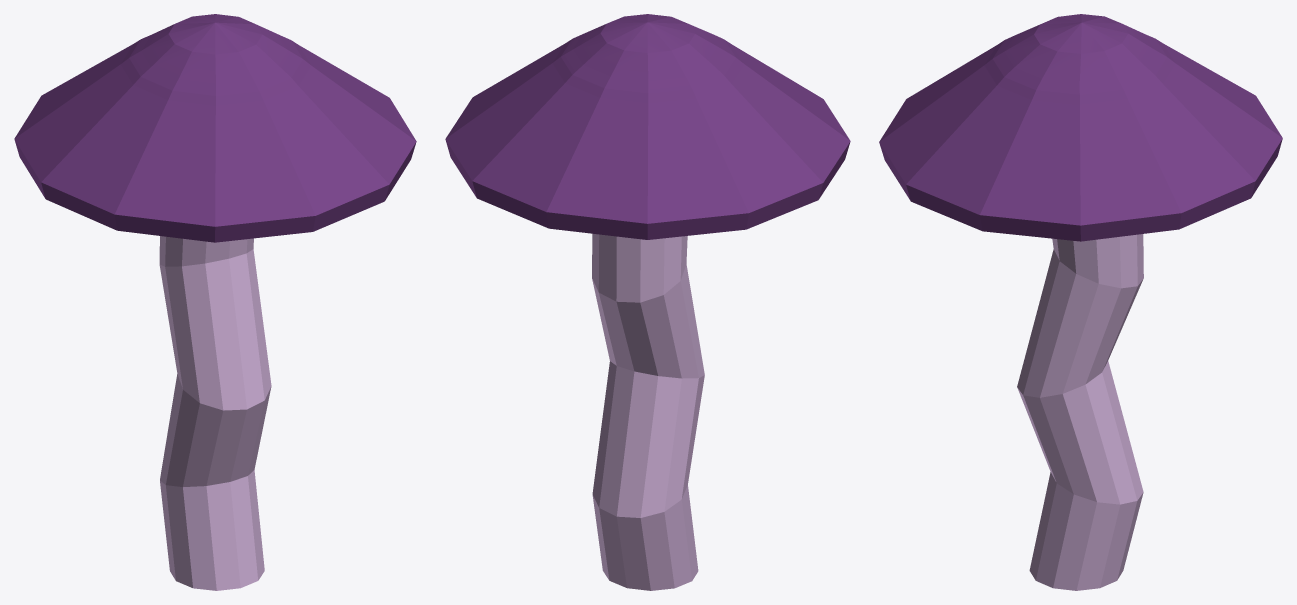
File: LargeMushroom.fbx
The picture shows the model from 3 angles, left to right: view 1: azimuth 30°, elevation 25°; view 2: azimuth 150°, elevation 25°; view 3: azimuth 270°, elevation 25°; orthographic projection.
Parts seen in each view (by area): view 1: TreeTop.001; view 2: TreeTop.001; view 3: TreeTop.001.
Boxes of the visible parts, bbox=[...] form: TreeTop.001: bbox=[14, 14, 416, 590]; TreeTop.001: bbox=[445, 14, 850, 590]; TreeTop.001: bbox=[879, 14, 1282, 590].
Size of the model in its own units: 1371 by 2054 by 1371.
